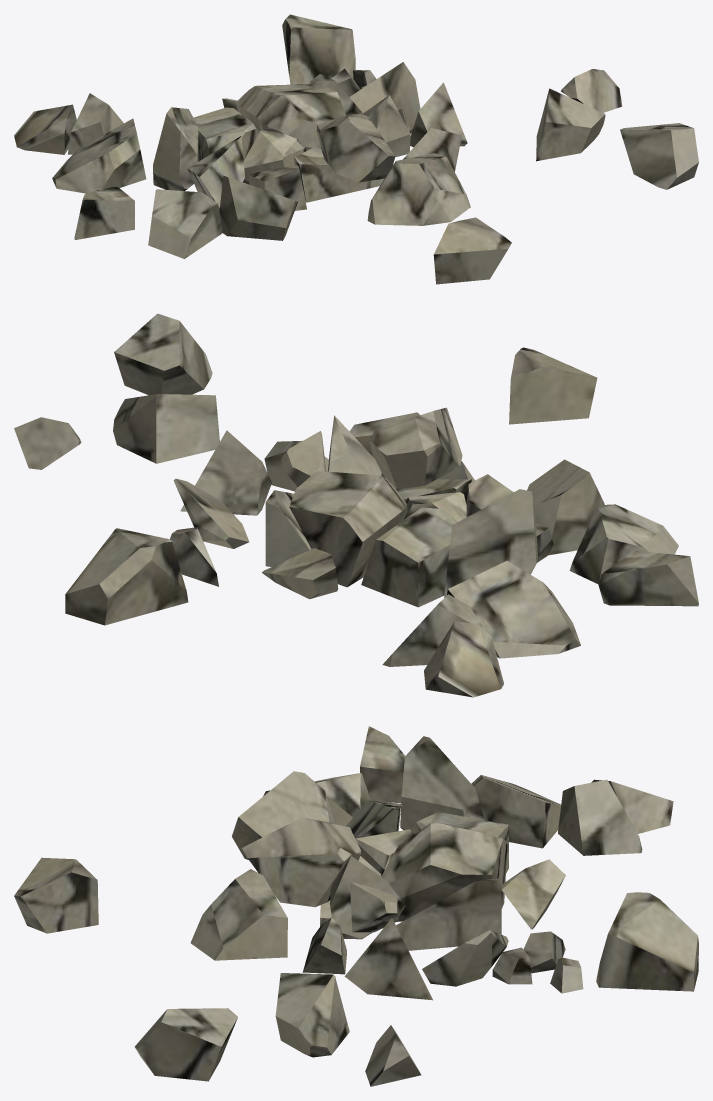
The model's file is City_Object3.FBX.
3 renders of one model, top to bottom at view 1: azimuth 30°, elevation 25°; view 2: azimuth 150°, elevation 25°; view 3: azimuth 270°, elevation 25°, orthographic. The views are drawn at different scales.
Visible parts, largest first — view 1: Box001_Part_18; view 2: Box001_Part_18; view 3: Box001_Part_18.
Part boxes in pixels (x1=…): Box001_Part_18: x1=14, y1=14, x2=698, y2=284; Box001_Part_18: x1=14, y1=313, x2=698, y2=697; Box001_Part_18: x1=14, y1=726, x2=698, y2=1086.
Size of the model in its own units: 920 by 136 by 832.
1 material, 1 textured.
